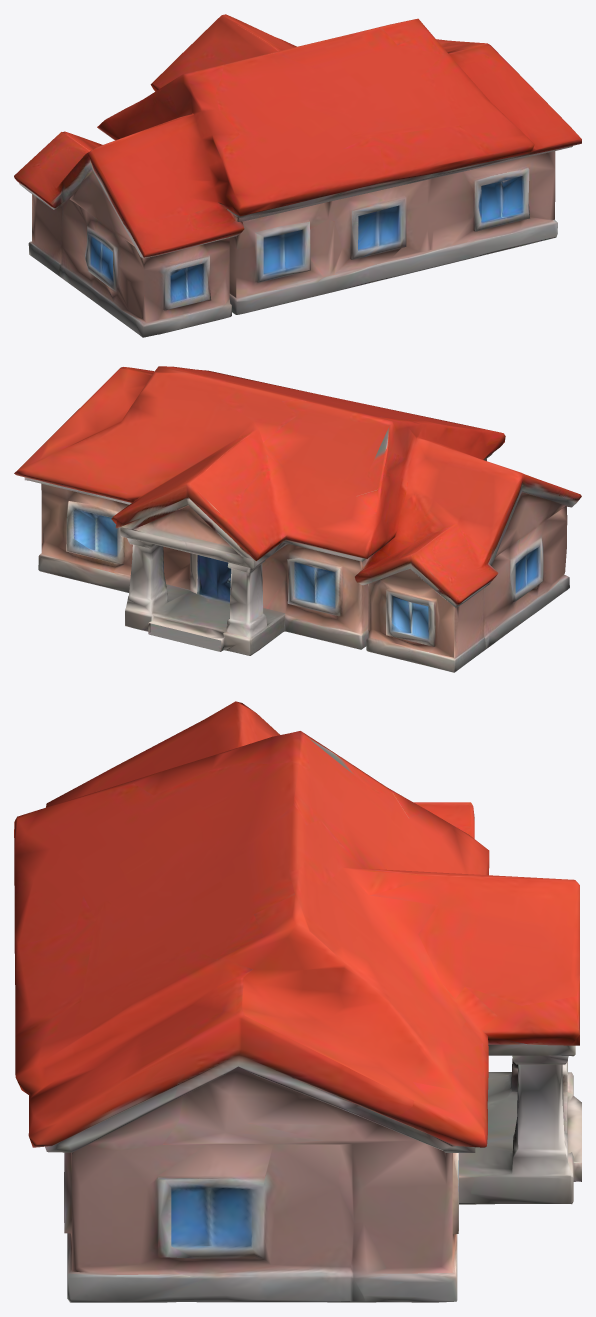
Rendered from casa-n04-65270c30.glb.
3 views of the same model, one above another, from view 1: azimuth 30°, elevation 25°; view 2: azimuth 150°, elevation 25°; view 3: azimuth 270°, elevation 25° (orthographic). The views are drawn at different scales.
Parts seen in each view (by area): view 1: casa_n04; view 2: casa_n04; view 3: casa_n04.
Boxes of the visible parts, box(x1,y1,x2,y2) form: casa_n04: box(14, 14, 581, 337); casa_n04: box(14, 366, 581, 672); casa_n04: box(14, 701, 581, 1302).
Bounding box in the file's own units: 17.48 × 7.14 × 11.5.
Materials: 1 (1 with a texture image).
